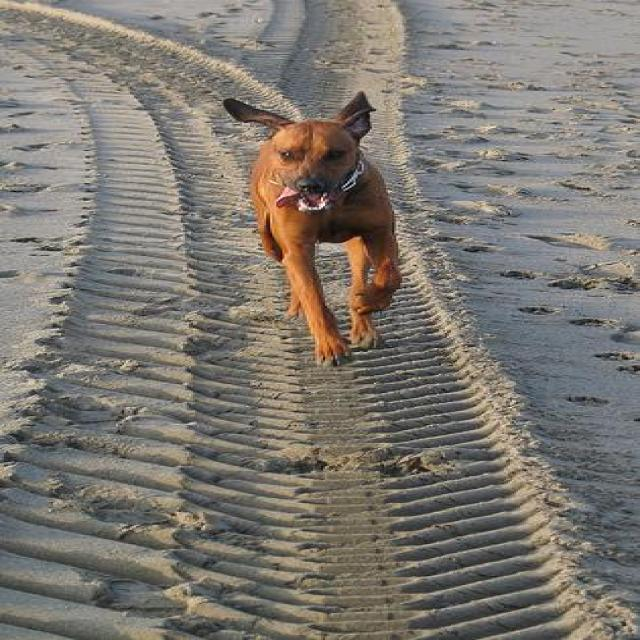rhodesian_ridgeback: (215, 86, 402, 371)
